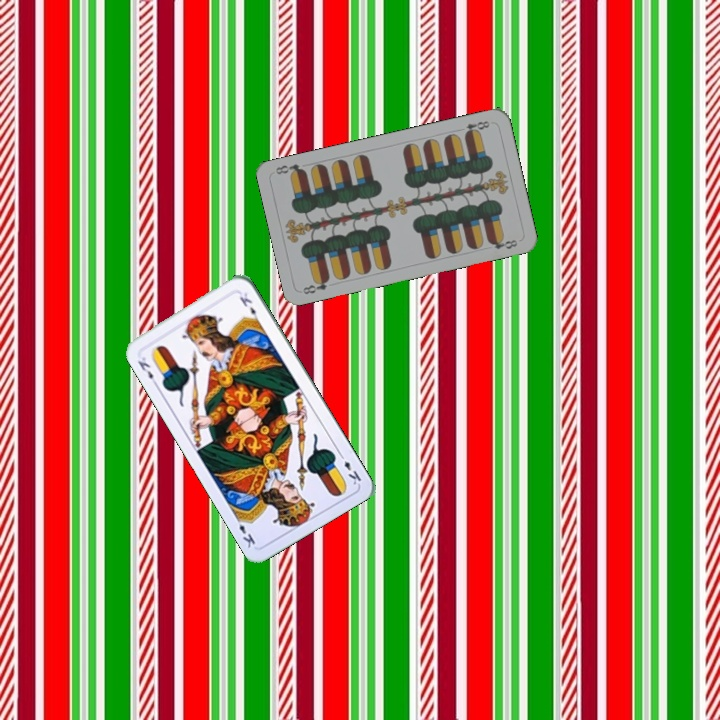E8: (454, 117, 492, 138), (299, 274, 332, 297)
EK: (335, 449, 364, 487), (134, 353, 160, 388)
